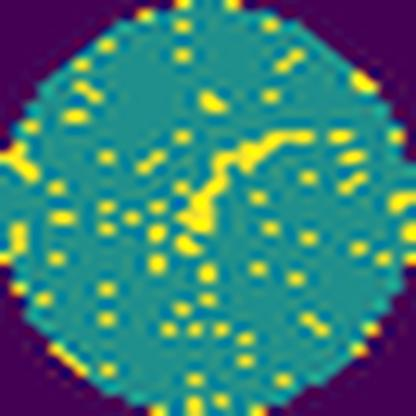Loc: (175, 124, 315, 239)
